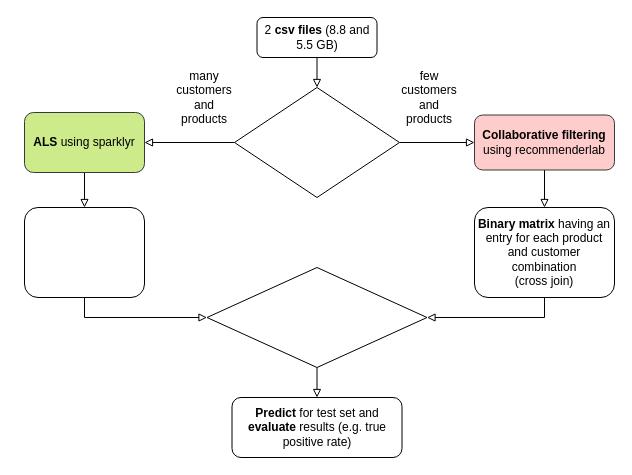
This 632x475 diagram has some shape labels left out. The shapes that lost their labels are listed below. From the top down, each one's centre as x and y in pixels, then its label:
At pixel 317 142: "Database containing 2 tables (products, customers) in SQLite".
At pixel 84 252: "Table from query for all customer purchases".
At pixel 316 317: "Split intro train and test set, train on train set".
